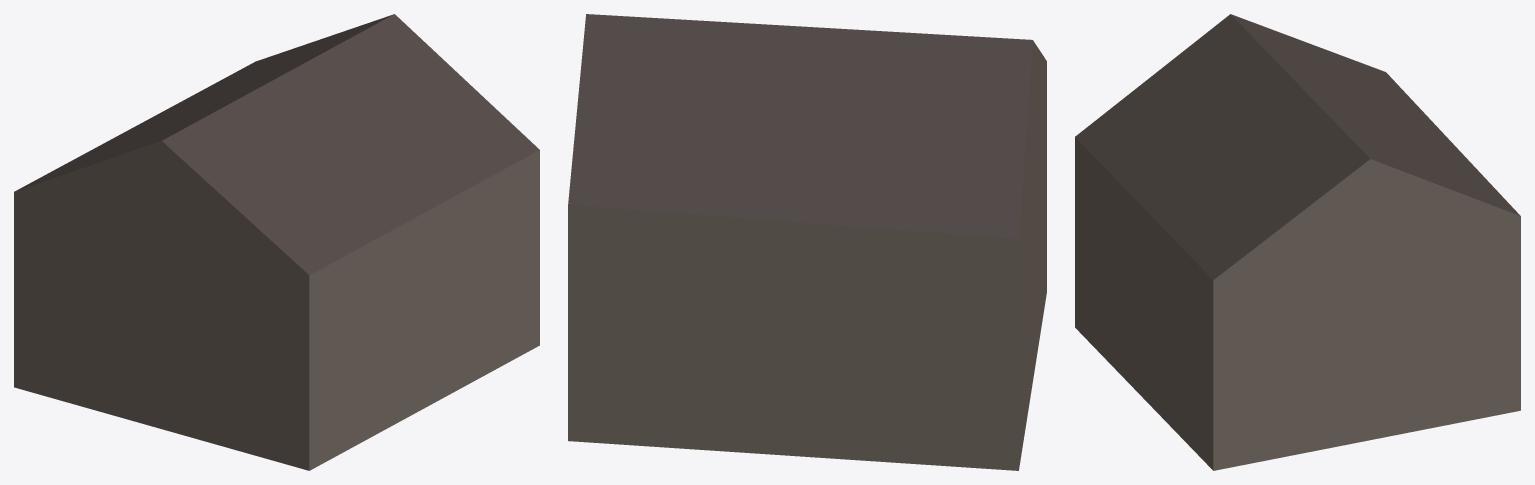
3 renders of one model, left to right at view 1: azimuth 30°, elevation 25°; view 2: azimuth 150°, elevation 25°; view 3: azimuth 270°, elevation 25°, orthographic. The views are drawn at different scales.
Visible parts, largest first — view 1: HP-w505659412; view 2: HP-w505659412; view 3: HP-w505659412.
Boxes of the visible parts, box(x1,y1,x2,y2) form: HP-w505659412: box(14, 14, 539, 470); HP-w505659412: box(568, 14, 1046, 470); HP-w505659412: box(1075, 14, 1520, 470).
Bounding box in the file's own units: 14.04 × 8.85 × 12.72.
